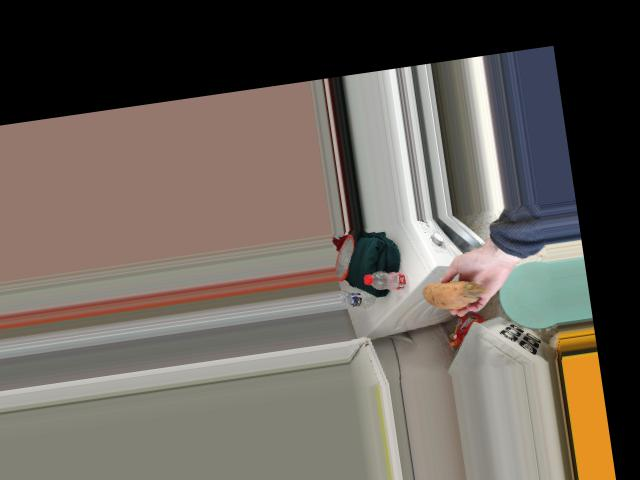sweet_potato: (408, 278, 479, 312)
